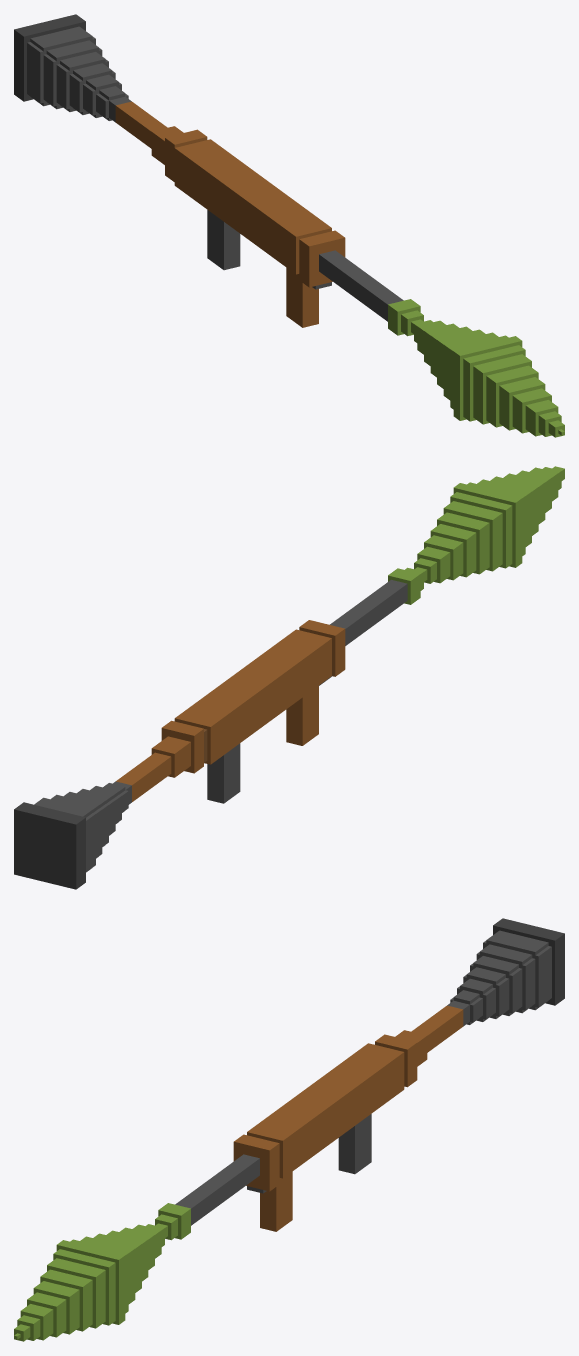
Rendered from RPG.fbx.
3 renders of one model, top to bottom at view 1: azimuth 30°, elevation 25°; view 2: azimuth 150°, elevation 25°; view 3: azimuth 330°, elevation 25°, orthographic.
Visible parts, largest first — view 1: RPG; view 2: RPG; view 3: RPG.
Boxes of the visible parts, x1,y1,x2,y2 form: RPG: (14,14,564,437); RPG: (14,466,564,889); RPG: (14,918,564,1341).
Size of the model in its own units: 1.9 by 3.2 by 27.42.
Materials: 1 (1 with a texture image).
